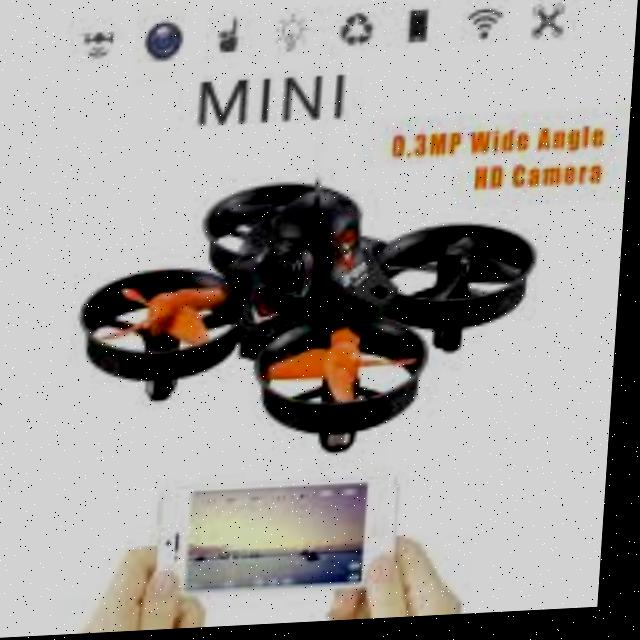drone: (65, 158, 571, 485)
